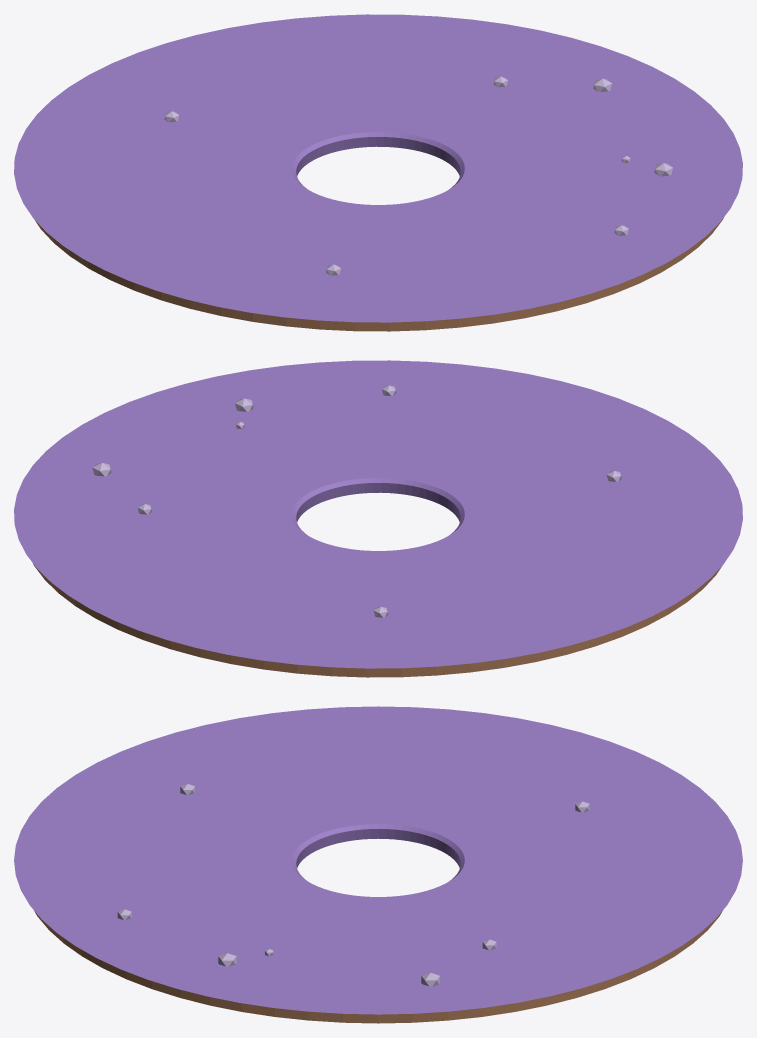
The model's file is goo_jar_deck_2@mushroom.fbx.
3 renders of one model, top to bottom at view 1: azimuth 30°, elevation 25°; view 2: azimuth 150°, elevation 25°; view 3: azimuth 270°, elevation 25°, orthographic.
Visible parts, largest first — view 1: goo_jar_deck_2; view 2: goo_jar_deck_2; view 3: goo_jar_deck_2.
Boxes of the visible parts, box(x1,y1,x2,y2) form: goo_jar_deck_2: box(14, 14, 742, 331); goo_jar_deck_2: box(14, 360, 742, 677); goo_jar_deck_2: box(14, 706, 742, 1023).
Bounding box in the file's own units: 53.2 × 1.84 × 53.2.
